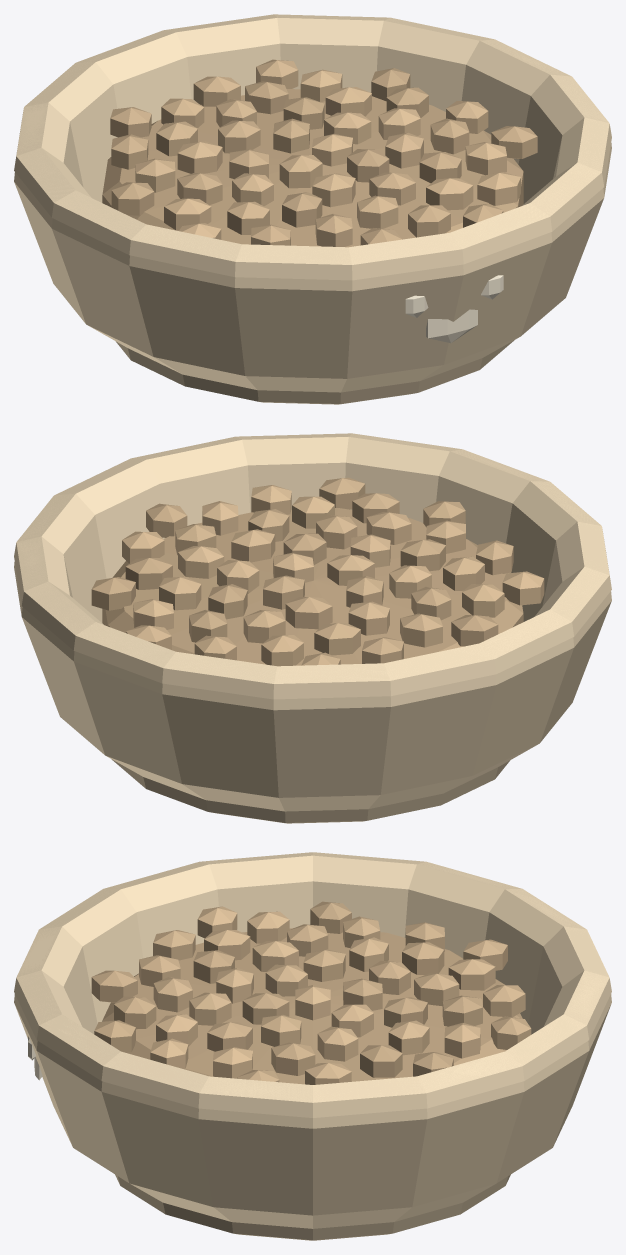
The model's file is crafted-cat-food-3-2.glb.
3 views of the same model, one above another, from view 1: azimuth 30°, elevation 25°; view 2: azimuth 150°, elevation 25°; view 3: azimuth 270°, elevation 25° (orthographic).
Parts seen in each view (by area): view 1: ceramic-bowl, glazed-rim, ration-volume, foot-ring, ration-granule-24, ration-granule-12, ration-granule-37, ration-granule-19, ration-granule-38, ration-granule-1, ration-granule-14, ration-granule-30 (+37 smaller); view 2: ceramic-bowl, glazed-rim, ration-volume, foot-ring, ration-granule-7, ration-granule-20, ration-granule-8, ration-granule-39, ration-granule-25, ration-granule-13, ration-granule-43, ration-granule-30 (+37 smaller); view 3: ceramic-bowl, glazed-rim, ration-volume, foot-ring, ration-granule-40, ration-granule-26, ration-granule-13, ration-granule-28, ration-granule-21, ration-granule-11, ration-granule-36, ration-granule-20 (+37 smaller).
Boxes of the visible parts, <box> form: ceramic-bowl: <box>14,14,611,392</box>; glazed-rim: <box>14,14,611,280</box>; ration-volume: <box>102,89,523,247</box>; foot-ring: <box>116,340,514,404</box>; ration-granule-24: <box>426,178,473,210</box>; ration-granule-12: <box>177,141,222,173</box>; ration-granule-37: <box>477,172,520,205</box>; ration-granule-19: <box>357,195,398,228</box>; ration-granule-38: <box>111,182,154,215</box>; ration-granule-1: <box>279,155,322,188</box>; ration-granule-14: <box>282,192,322,227</box>; ration-granule-30: <box>164,198,211,230</box>; ceramic-bowl: <box>14,433,611,811</box>; glazed-rim: <box>14,433,611,699</box>; ration-volume: <box>102,508,523,665</box>; foot-ring: <box>111,759,509,823</box>; ration-granule-7: <box>285,597,332,629</box>; ration-granule-20: <box>314,623,360,655</box>; ration-granule-8: <box>231,529,275,562</box>; ration-granule-39: <box>91,577,135,610</box>; ration-granule-25: <box>400,613,442,647</box>; ration-granule-13: <box>178,546,224,578</box>; ration-granule-43: <box>502,571,544,605</box>; ration-granule-30: <box>462,584,504,617</box>; ceramic-bowl: <box>14,852,611,1228</box>; glazed-rim: <box>14,852,611,1117</box>; ration-volume: <box>102,928,522,1084</box>; foot-ring: <box>115,1174,510,1240</box>; ration-granule-40: <box>91,970,137,1002</box>; ration-granule-26: <box>360,1045,402,1077</box>; ration-granule-13: <box>317,1026,358,1061</box>; ration-granule-28: <box>448,959,495,990</box>; ration-granule-21: <box>271,1042,315,1075</box>; ration-granule-11: <box>189,992,231,1025</box>; ration-granule-36: <box>483,985,525,1017</box>; ration-granule-20: <box>402,942,444,974</box>.
Bounding box in the file's own units: 0.76 × 0.265 × 0.76.
